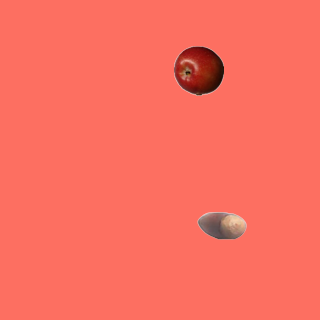Apple Braeburn: (173, 45, 223, 95)
Hazelnut: (196, 200, 246, 250)
